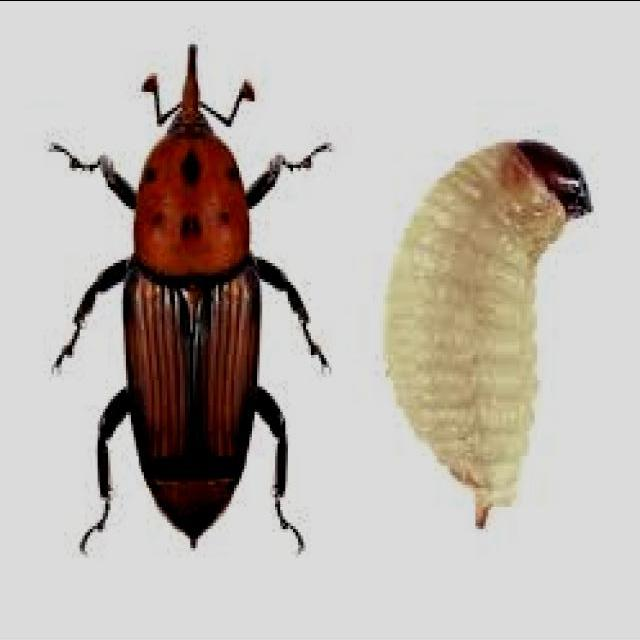Red-palm-weevil: (44, 41, 338, 561)
